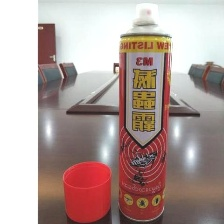aerosol_cans: (114, 2, 175, 224)
